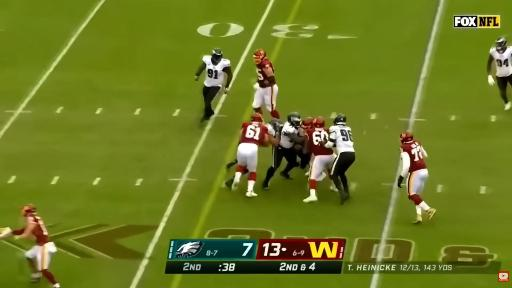Helmet: (287, 112, 301, 127), (269, 119, 283, 133), (22, 204, 36, 217), (495, 37, 506, 53), (254, 49, 266, 63), (302, 117, 314, 130), (212, 48, 222, 63), (400, 132, 413, 143), (334, 114, 346, 125), (313, 117, 325, 127), (251, 113, 263, 122)
Jersey: (400, 140, 427, 175), (203, 56, 230, 86), (307, 128, 333, 155), (329, 126, 354, 153), (239, 123, 268, 145), (27, 216, 49, 245), (490, 47, 511, 77), (257, 59, 275, 87), (280, 122, 298, 148), (265, 124, 277, 137)
Player: (4, 205, 59, 287), (232, 114, 278, 197), (398, 133, 436, 223), (263, 112, 304, 189), (195, 48, 232, 122), (304, 117, 335, 202), (326, 114, 355, 198), (253, 49, 279, 118), (487, 37, 511, 110), (266, 119, 282, 137), (301, 148, 312, 168)
